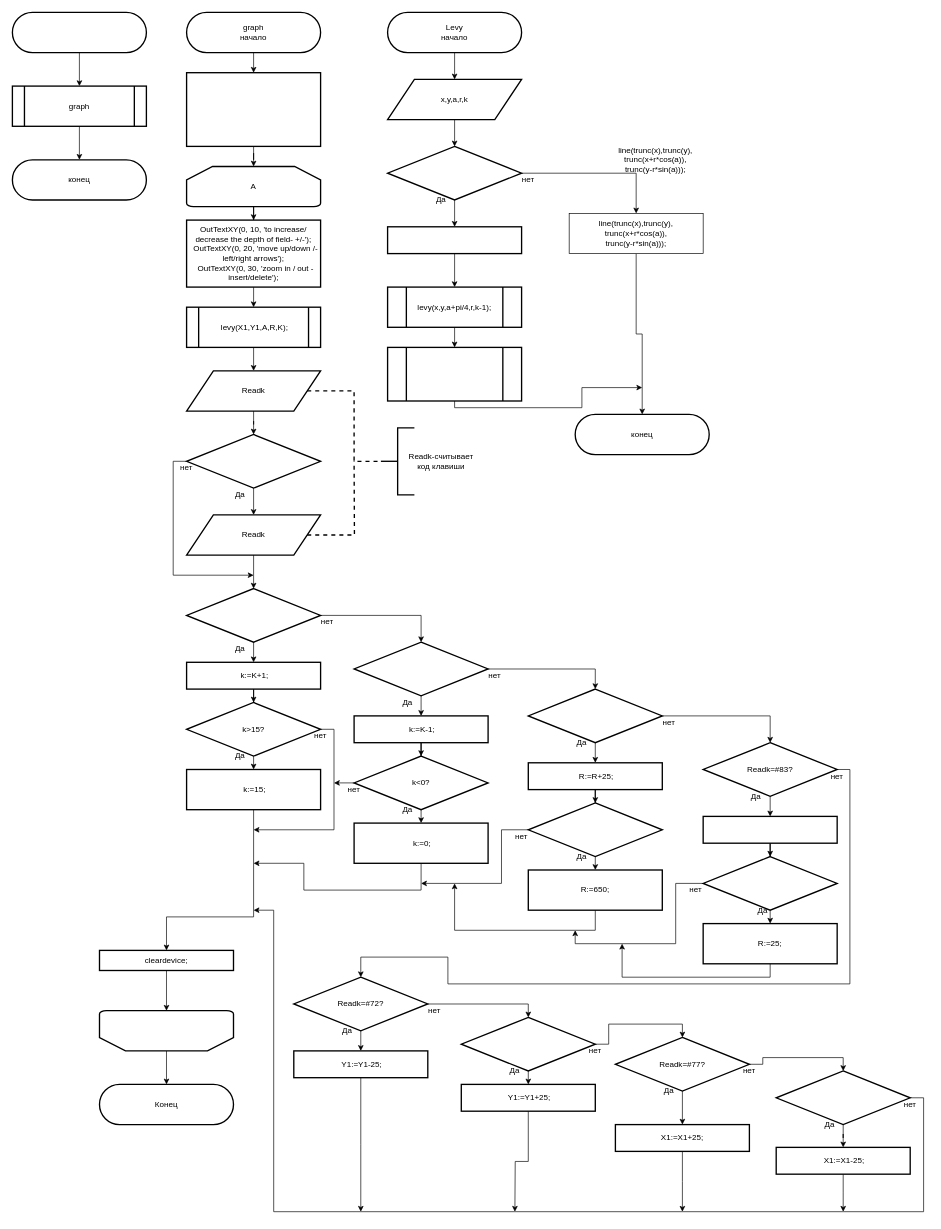
Some shapes in this 941 by 1229 pixel diagram are drawn without their labels. The box of each missing label's shape, as (x1, y1, x2, y2) in pixels:
Gd := Detect; InitGraph(Gd, Gm, ''); X1:=800; Y1:=600; A:=0; R:=200; K:=10;: (186, 72, 321, 147)
k>0?: (387, 145, 522, 200)
levy(x+r*cos(a+pi/4), y-r*sin(a+pi/4),a-pi/4,r, k-1);: (387, 346, 522, 401)
r:=r*sin(pi/4);: (387, 226, 522, 254)
R:=R-25;: (702, 815, 838, 844)
R<25: (702, 856, 838, 911)
R>650?: (527, 802, 663, 857)
Readk=#0?: (186, 433, 321, 488)
Readk=#13 A: (98, 1010, 234, 1051)
Readk=#43?: (186, 588, 321, 643)
Readk=#45?: (353, 641, 488, 696)
Readk=#75?: (775, 1070, 911, 1125)
Readk=#80?: (460, 1016, 596, 1071)
Readk=#82?: (527, 688, 663, 743)
начало: (11, 11, 147, 53)
